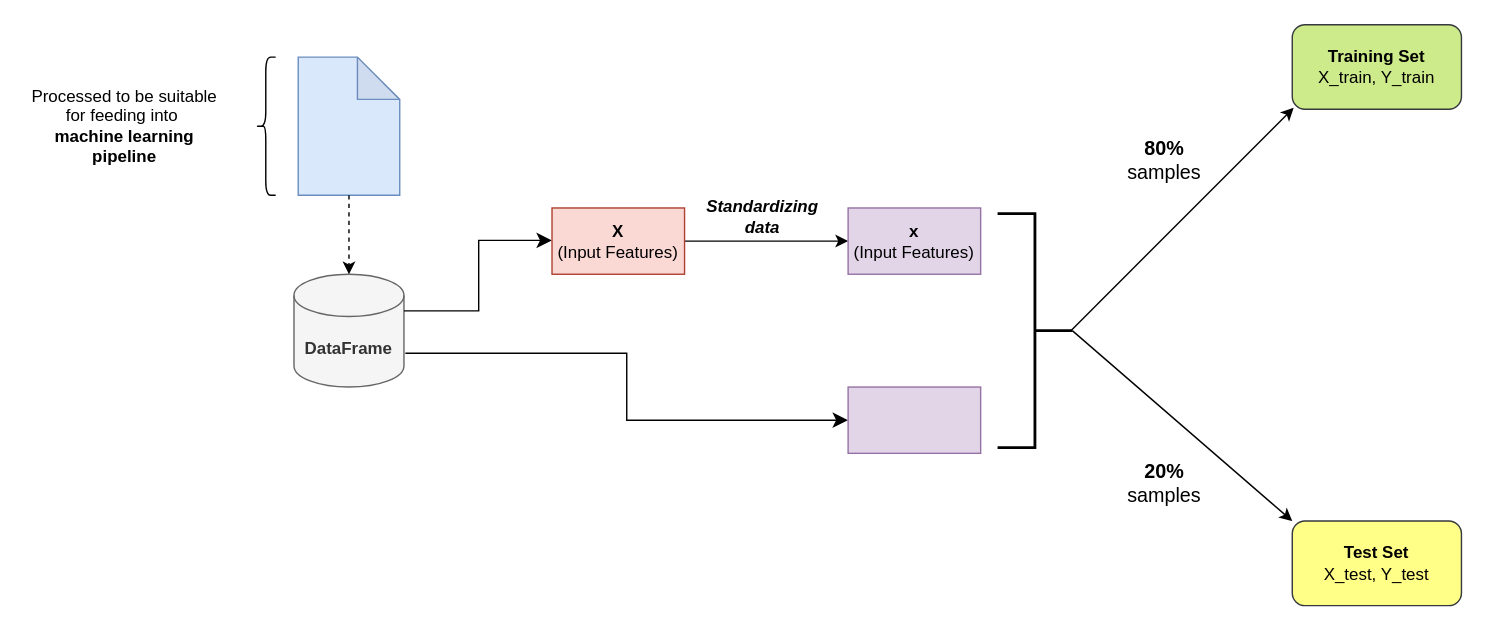
The diagram is 1486 pixels wide and 630 high, and some of its shapes have lost their labels. Each missing label, with the centre of its shape:
Data (csv): point 348,125
Y (Target Variable): point 914,419
